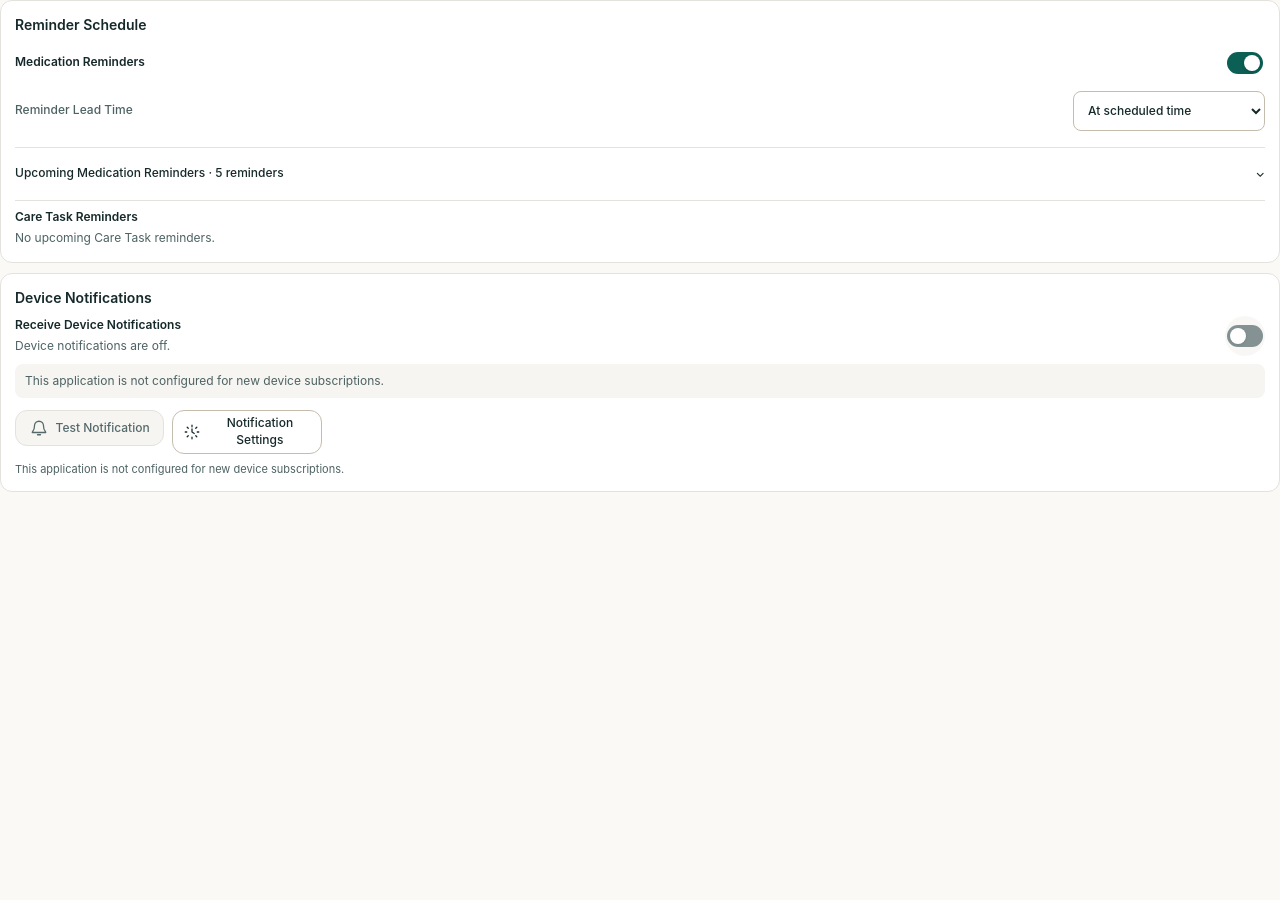
loads actual upcoming reminders collapsed, then shows all reminders when expanded
The width and height of the screenshot is (1280, 900).
Check: the text "DEMO medicine 0" is not shown
Click the button "Upcoming Medication Reminders · 5 reminders ⌄" at x=110, y=173, box [15, 156, 1265, 192]
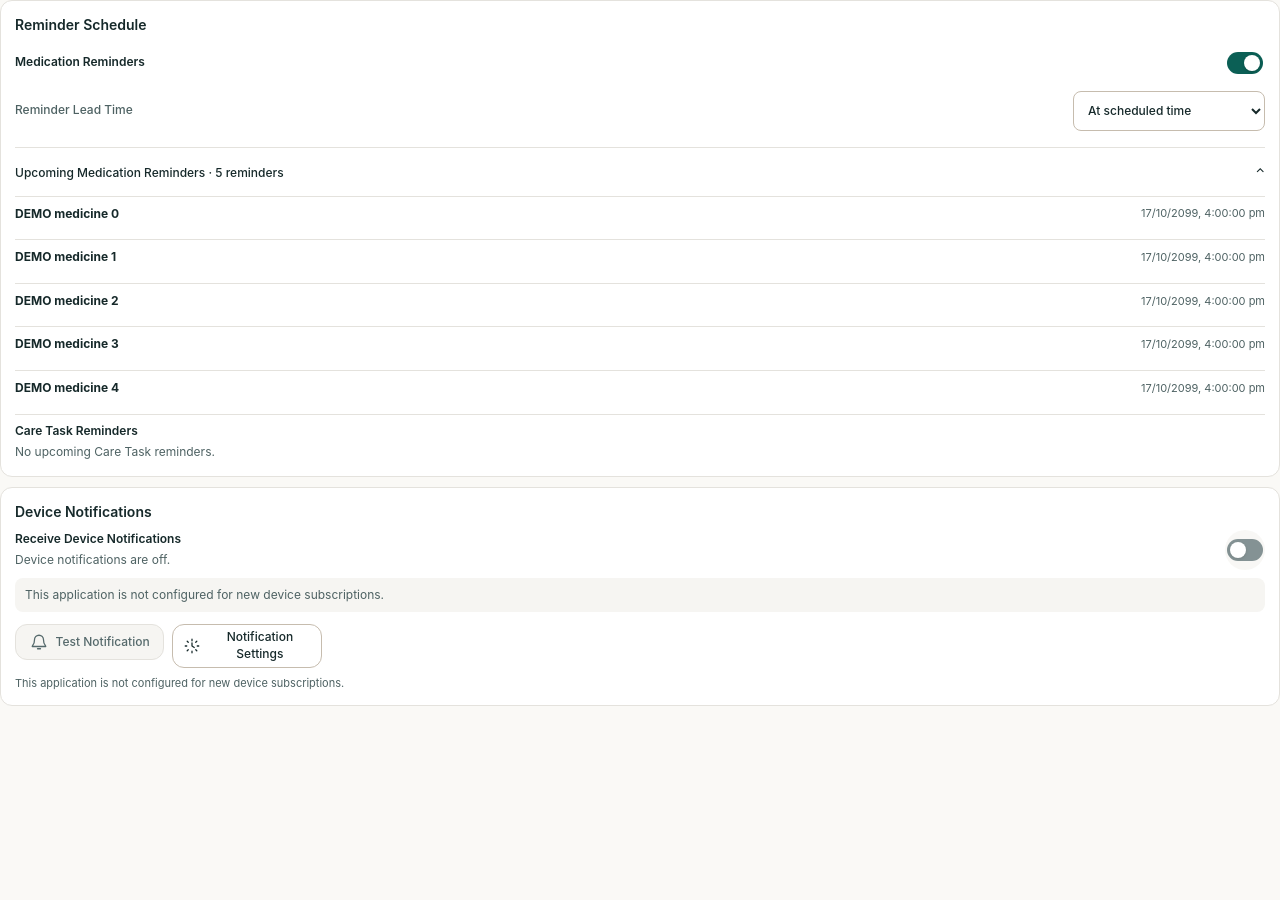
Check: the number of list items is 5, box [15, 196, 1265, 231]; [15, 239, 1265, 275]; [15, 283, 1265, 318]; [15, 326, 1265, 362]; [15, 370, 1265, 406]
Click the button "Upcoming Medication Reminders · 5 reminders ⌃" at x=110, y=173, box [15, 156, 1265, 192]
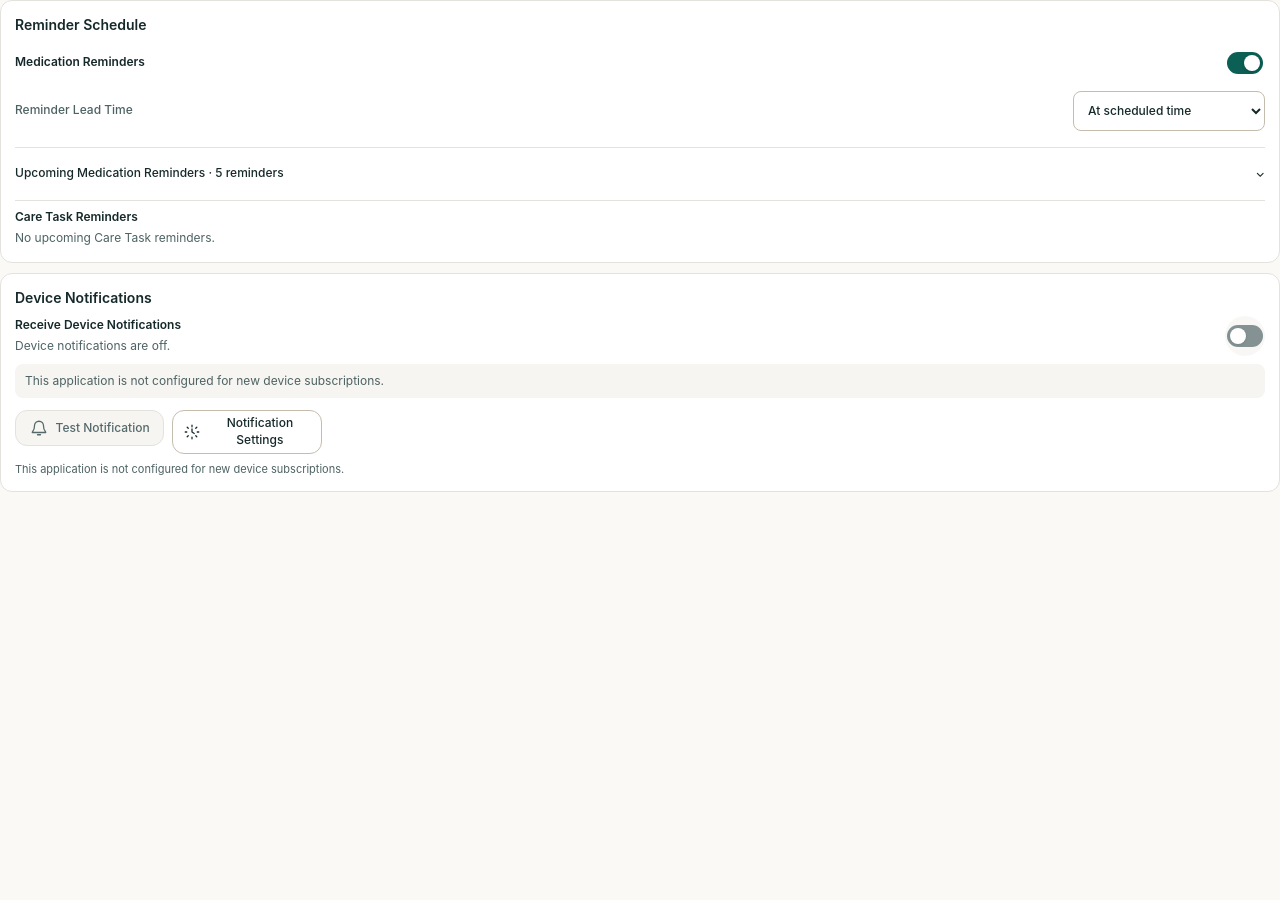
Check: the text "DEMO medicine 0" is gone
